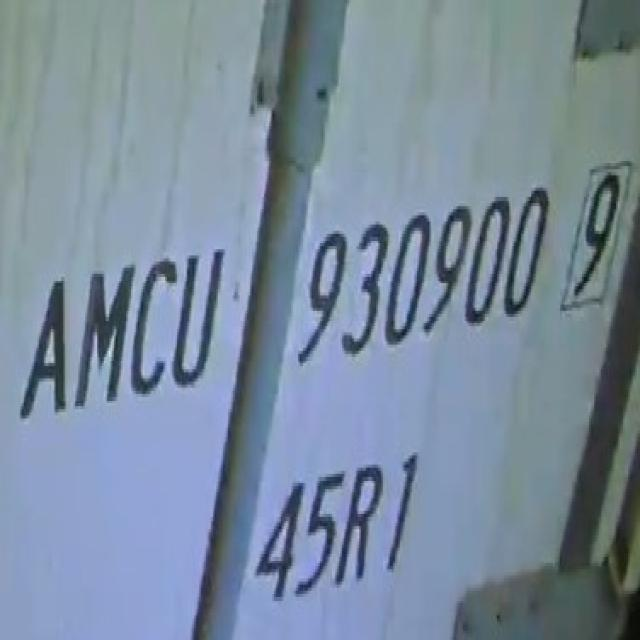dv: (560, 150, 638, 330)
owner: (17, 229, 230, 445)
serial: (276, 165, 549, 376)
size: (244, 433, 428, 603)
